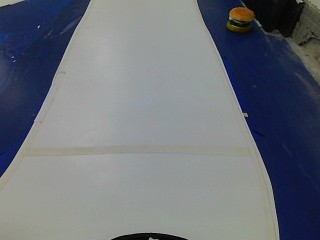burger: (224, 6, 256, 40)
